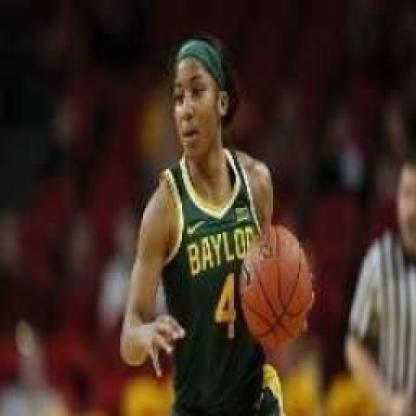basketball: (236, 222, 315, 356)
